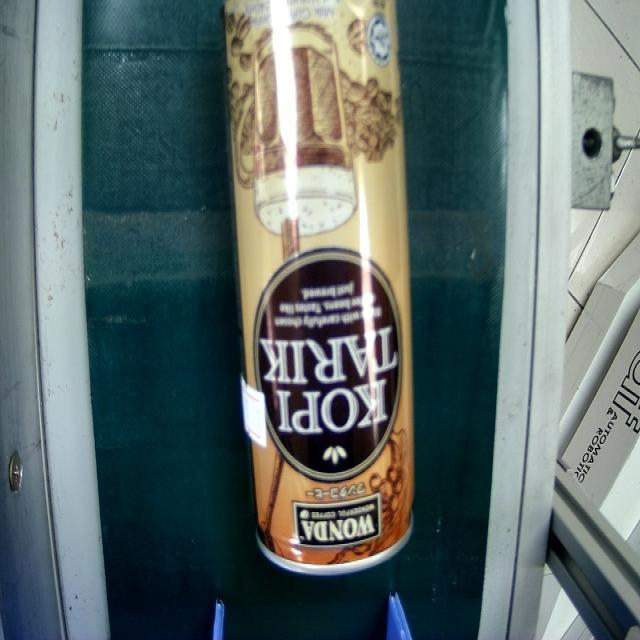can: (220, 0, 420, 570)
